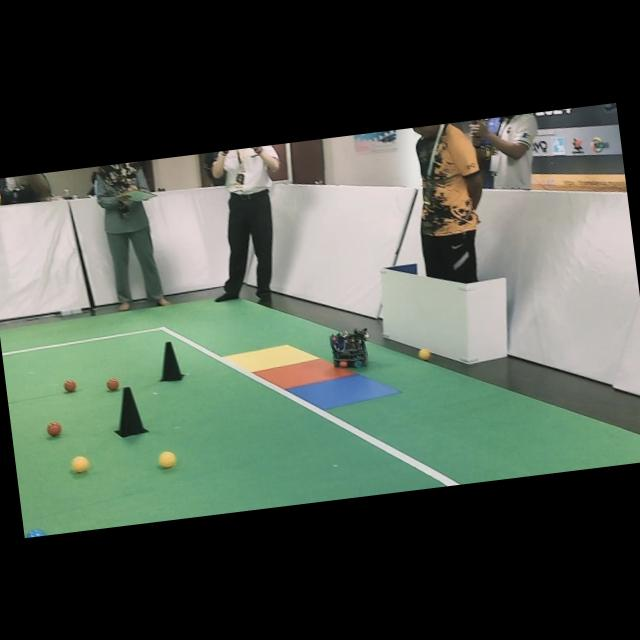ball: (158, 451, 176, 468), (71, 456, 90, 472), (46, 422, 62, 436), (106, 377, 119, 391), (25, 528, 45, 537), (417, 348, 431, 360), (63, 379, 76, 391)
goal: (288, 373, 399, 408), (255, 358, 355, 389), (224, 344, 318, 371)
